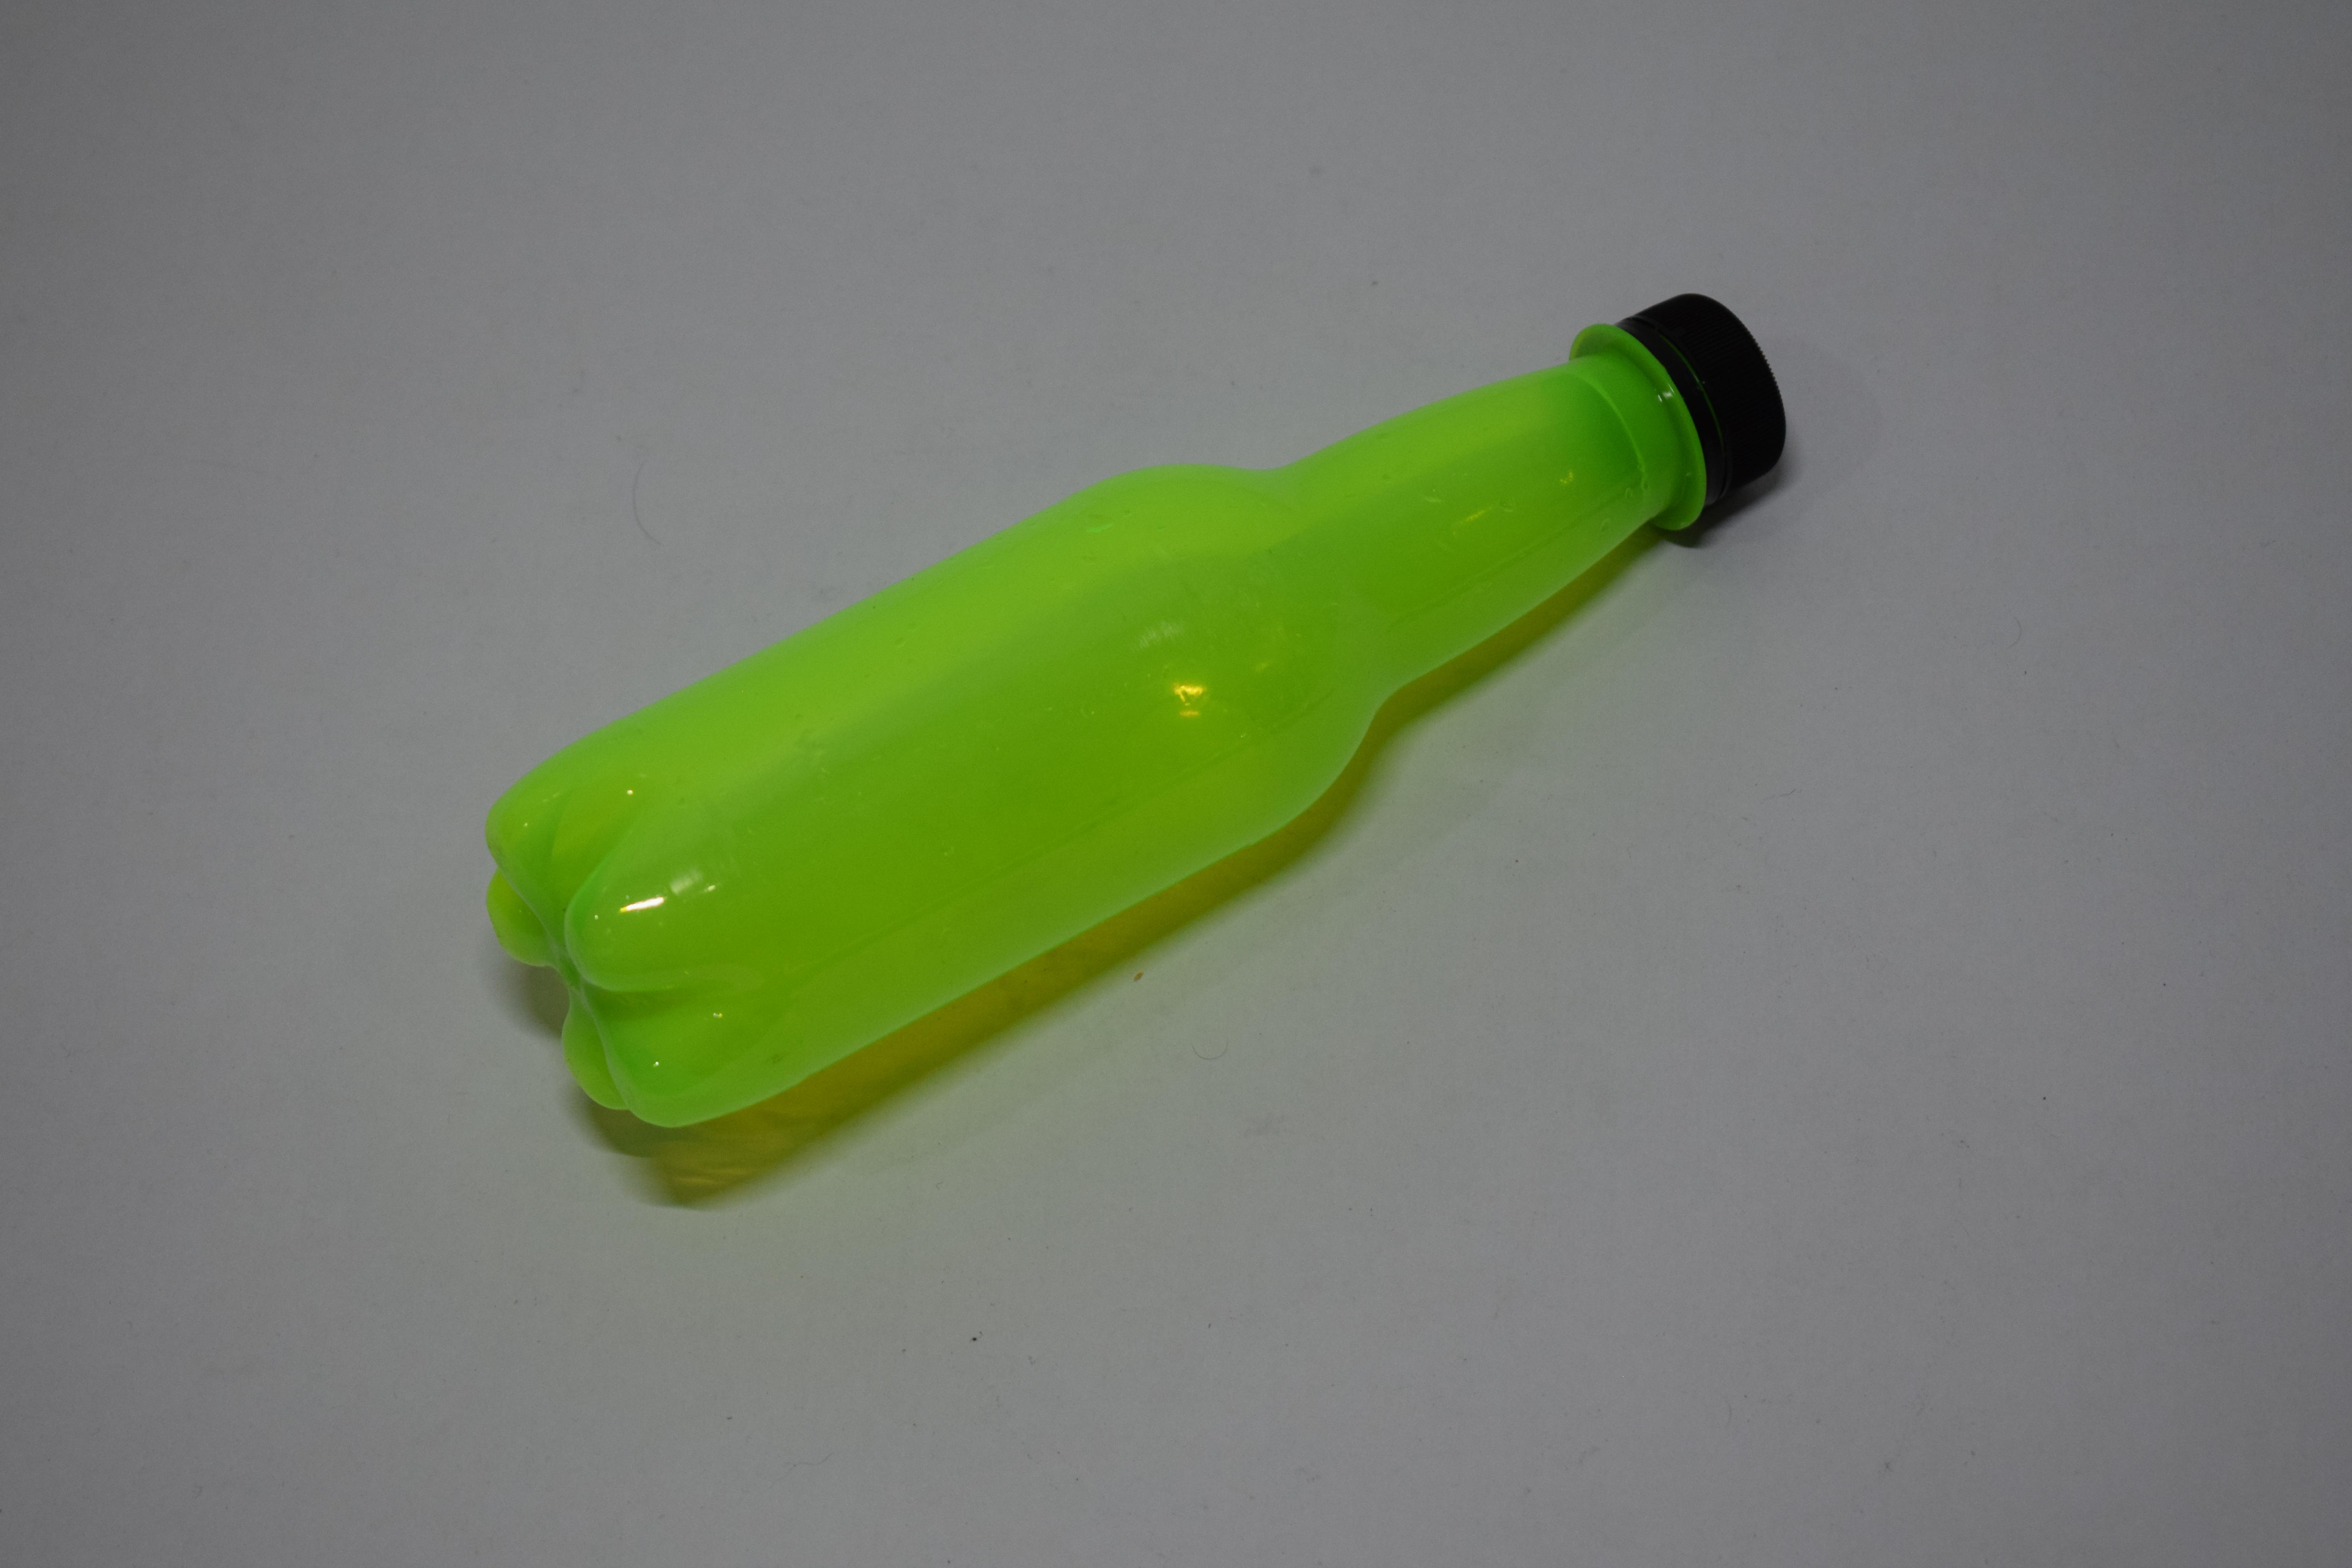bottle: (1055, 595, 1211, 658)
